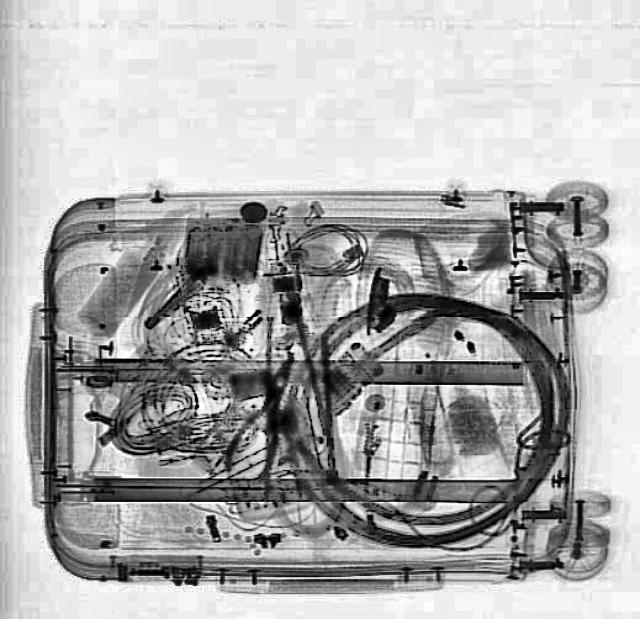Pliers: (214, 348, 318, 486)
